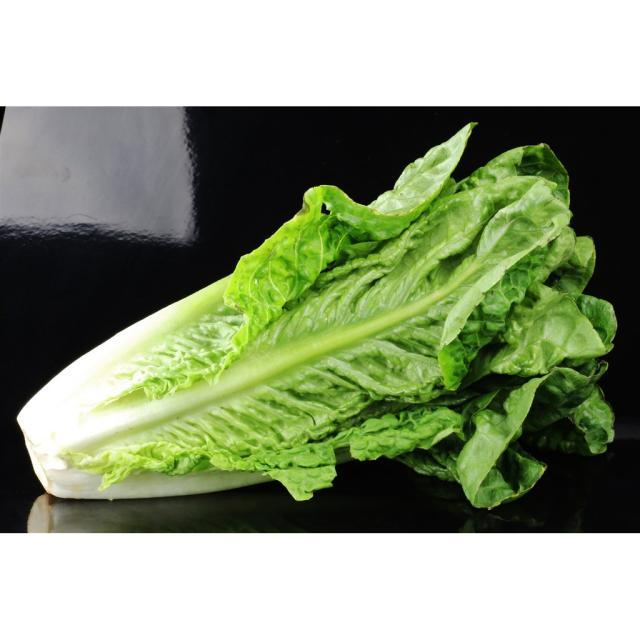Lettuce-Ready-to-Harvest: (19, 123, 621, 506)
